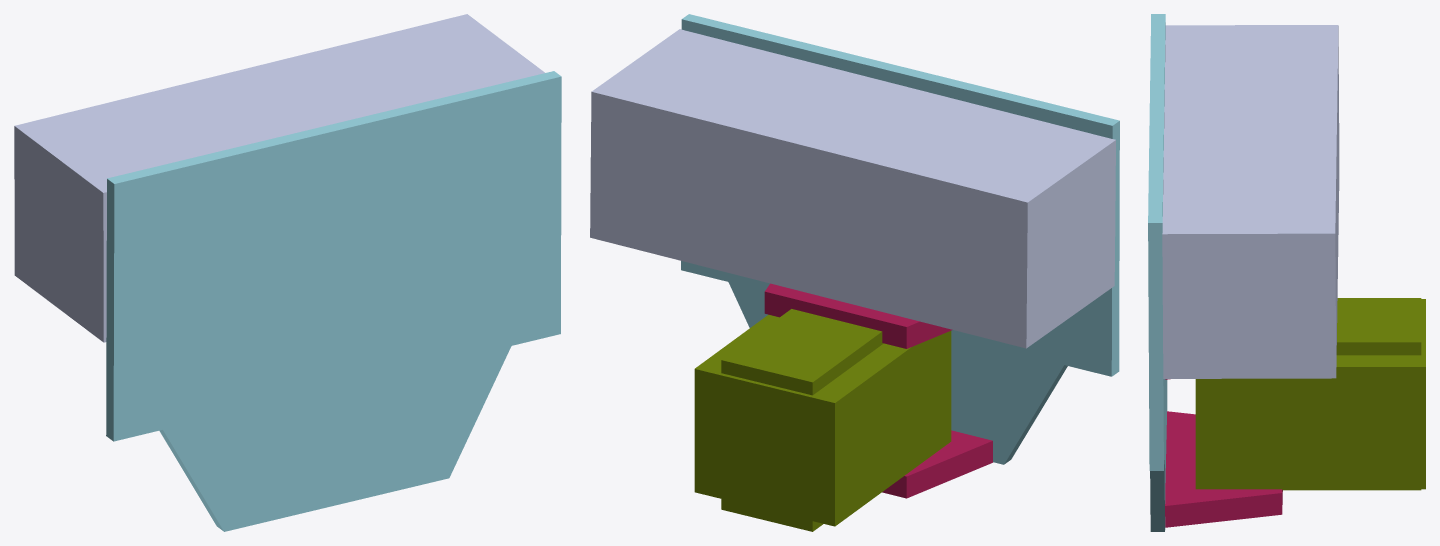
File: part_13_opt_2.obj
3 renders of one model, left to right at view 1: azimuth 30°, elevation 25°; view 2: azimuth 150°, elevation 25°; view 3: azimuth 270°, elevation 25°, orthographic. The views are drawn at different scales.
Visible parts, largest first — view 1: Box026, Boss_Extrude1_DC_Shell; view 2: Boss_Extrude1_DC_Shell, Box029, Box026, Box028, Box027; view 3: Boss_Extrude1_DC_Shell, Box029, Box026, Box027.
Part boxes in pixels (<box>): Box026: <box>106,71,561,531</box>; Boss_Extrude1_DC_Shell: <box>14,14,544,342</box>; Boss_Extrude1_DC_Shell: <box>590,29,1115,348</box>; Box029: <box>694,309,951,531</box>; Box026: <box>681,14,1119,464</box>; Box028: <box>764,283,952,348</box>; Box027: <box>882,430,992,498</box>; Boss_Extrude1_DC_Shell: <box>1162,25,1339,378</box>; Box029: <box>1195,298,1425,490</box>; Box026: <box>1148,14,1167,531</box>; Box027: <box>1165,411,1282,527</box>.
Size of the model in its own units: 110 by 87.65 by 61.04.
